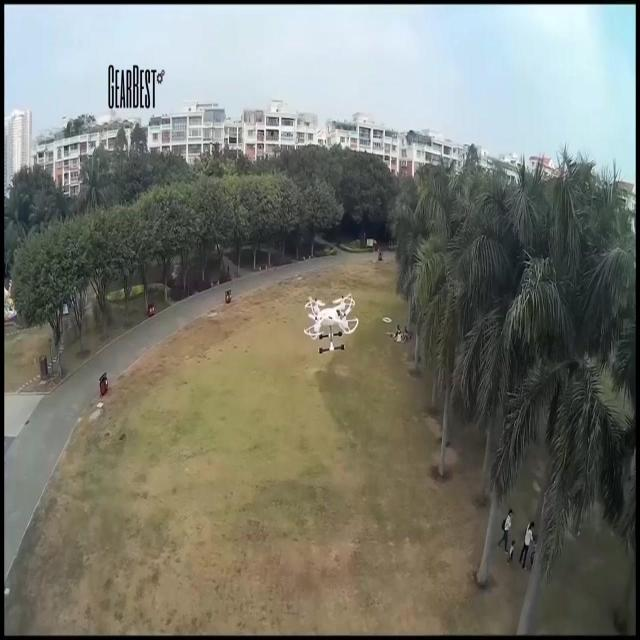UAV: (304, 292, 358, 354)
